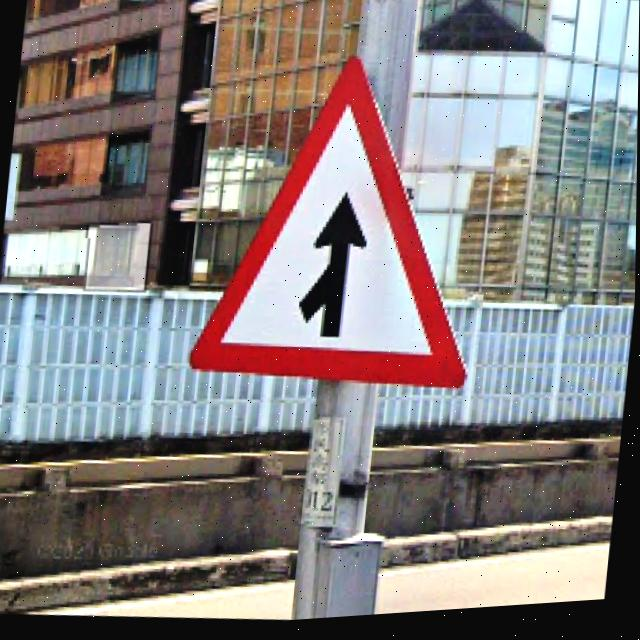leftmerge: (187, 63, 467, 397)
